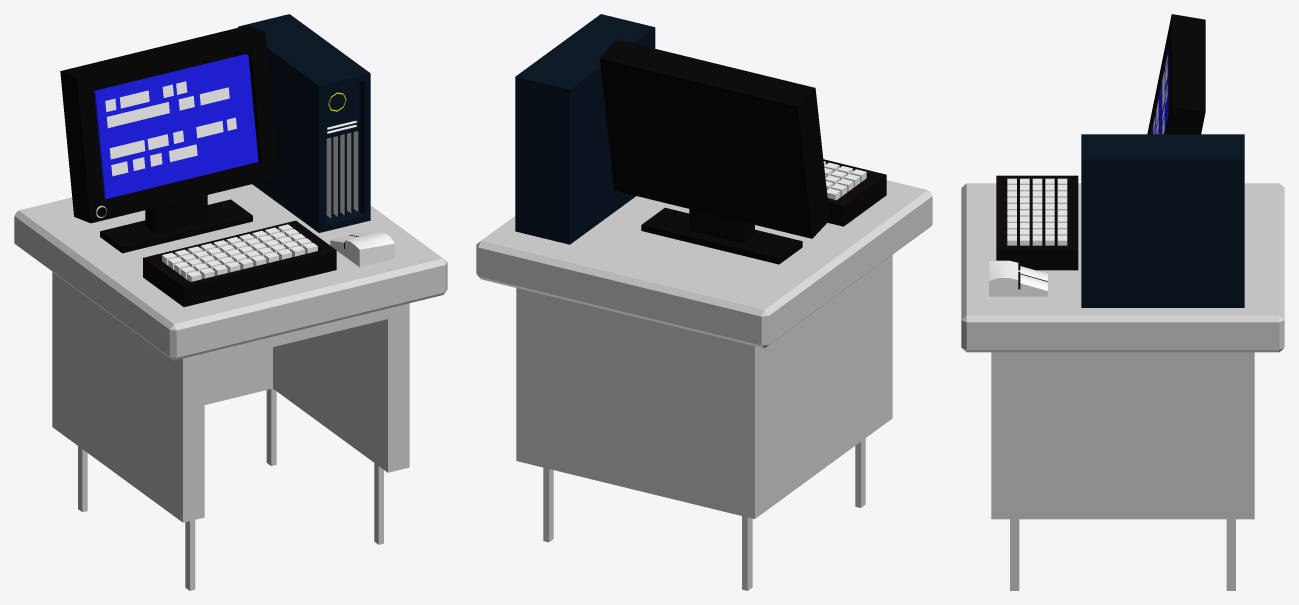
The model's file is Desktop.fbx.
3 views of the same model, side by side, from view 1: azimuth 30°, elevation 25°; view 2: azimuth 150°, elevation 25°; view 3: azimuth 270°, elevation 25° (orthographic). The views are drawn at different scales.
Parts seen in each view (by area): view 1: DesktopDesk, Desktop; view 2: DesktopDesk, Desktop; view 3: DesktopDesk, Desktop.
Boxes of the visible parts, x1,y1,x2,y2 form: DesktopDesk: (14,184,447,590); Desktop: (60,14,394,306); DesktopDesk: (476,180,932,590); Desktop: (515,14,886,264); DesktopDesk: (961,183,1284,590); Desktop: (989,14,1244,307).
Bounding box in the file's own units: 0.9964 × 1.58 × 0.9964.
